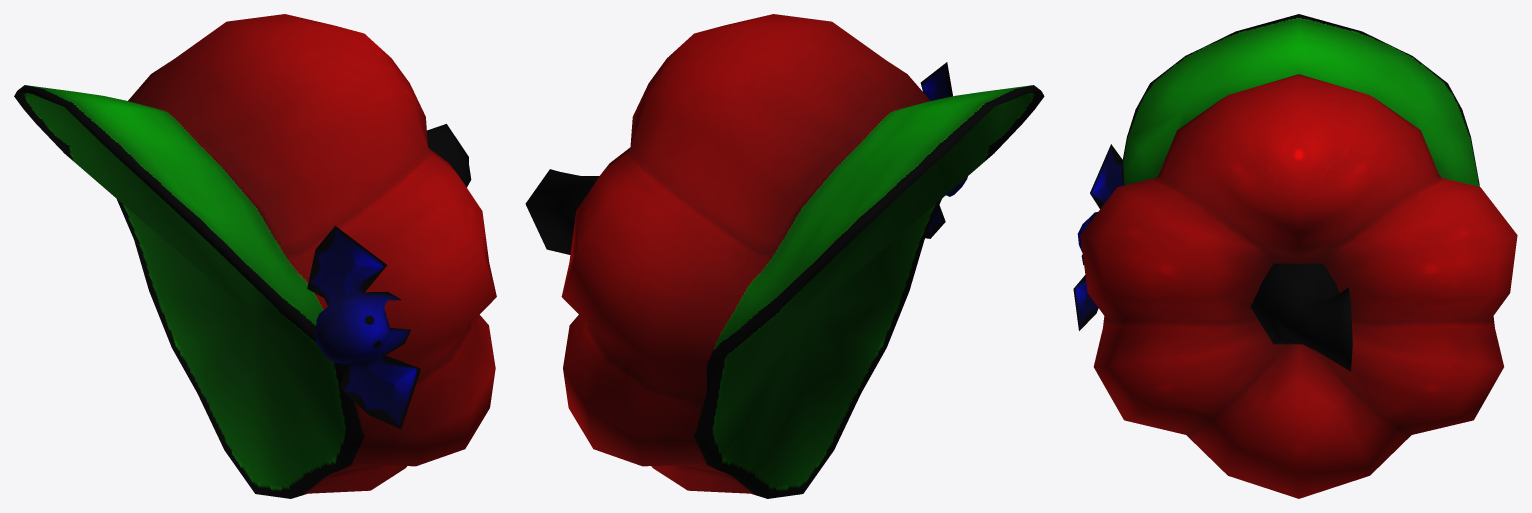
The picture shows the model from 3 angles, left to right: view 1: azimuth 30°, elevation 25°; view 2: azimuth 150°, elevation 25°; view 3: azimuth 270°, elevation 25°; orthographic projection. The views are drawn at different scales.
Visible parts, largest first — view 1: K1151; view 2: K1151; view 3: K1151.
Part boxes in pixels (x1=…): K1151: x1=14, y1=14, x2=496, y2=498; K1151: x1=525, y1=14, x2=1044, y2=498; K1151: x1=1073, y1=14, x2=1517, y2=498.
Bounding box in the file's own units: 0.7063 × 0.7139 × 0.7402.
